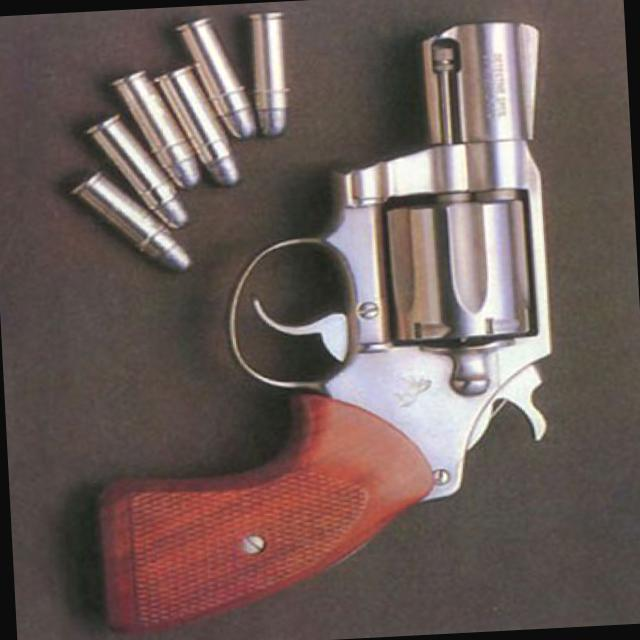handgun: (64, 15, 574, 635)
